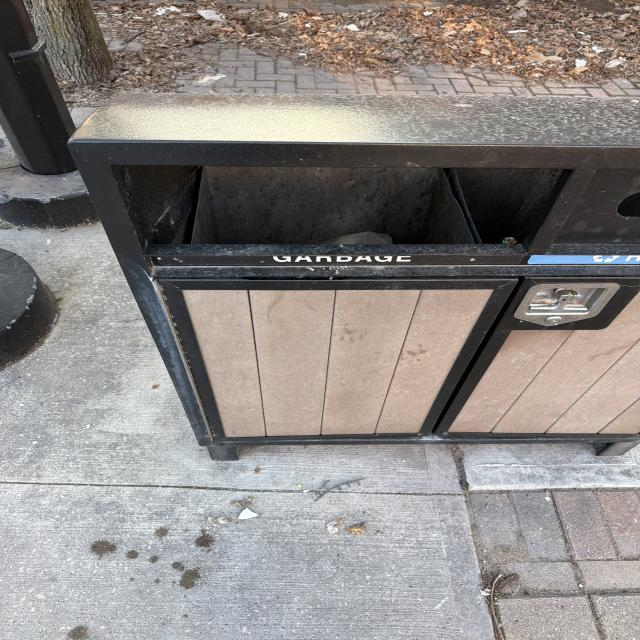Dustbin: (67, 101, 640, 465)
